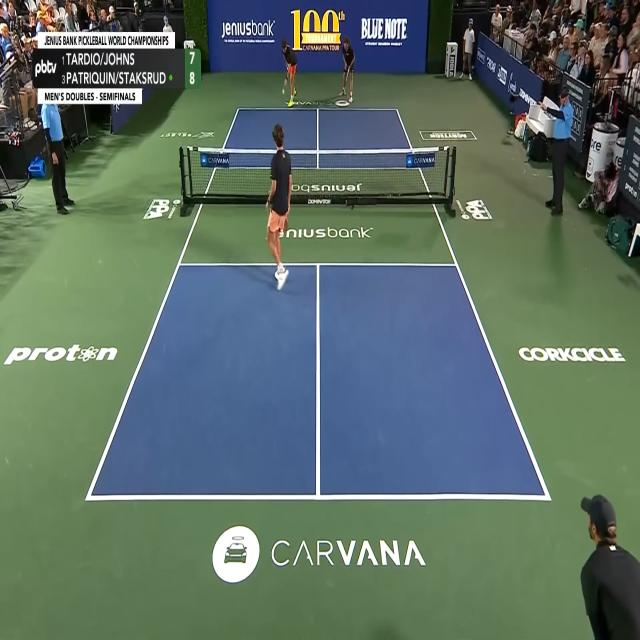ball: (282, 88, 285, 95)
